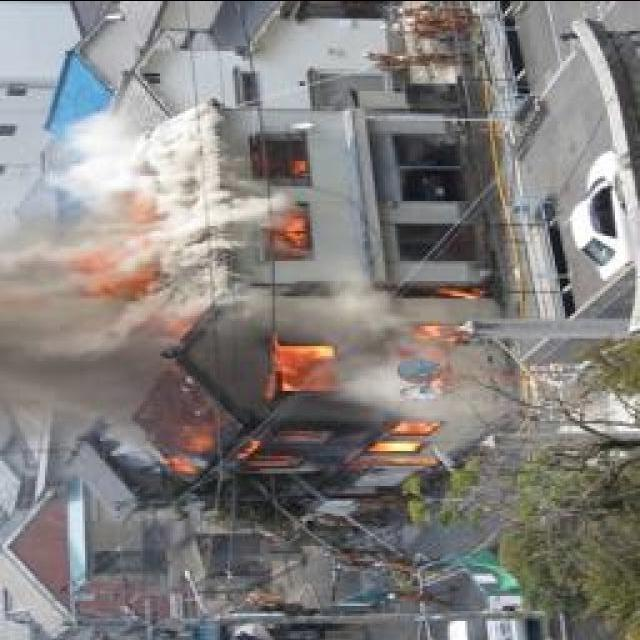Fire: (150, 322, 478, 484), (84, 192, 158, 300), (274, 149, 310, 257)
